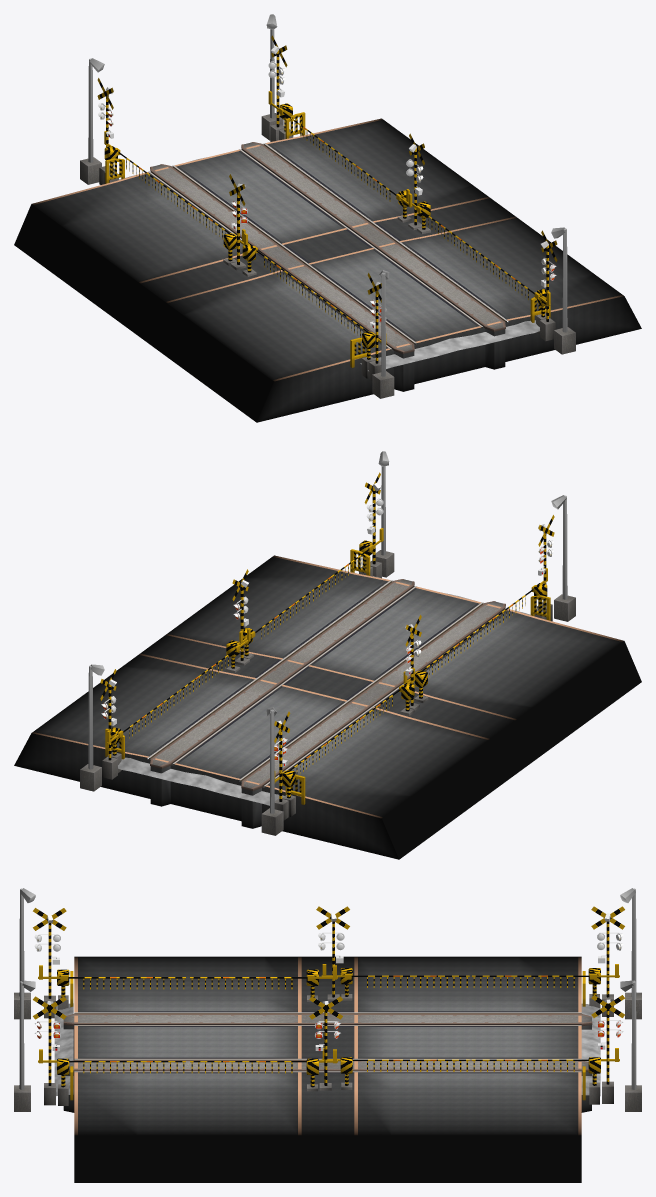
The model's file is NK_2RAIL_HUMIKIRI60.glb.
The picture shows the model from 3 angles, top to bottom: view 1: azimuth 30°, elevation 25°; view 2: azimuth 150°, elevation 25°; view 3: azimuth 270°, elevation 25°; orthographic projection. The views are drawn at different scales.
Visible parts, largest first — view 1: obj3, BODY (×6), bone8, bone0; view 2: obj3, BODY (×6), bone8, bone0; view 3: obj3, BODY (×6), bone8, bone0.
Part boxes in pixels (x1,y1,x2,y2): obj3: [14, 118, 641, 422]; BODY (×6): [97, 35, 557, 380]; bone8: [350, 227, 575, 398]; bone0: [80, 14, 305, 184]; obj3: [14, 555, 641, 859]; BODY (×6): [100, 472, 554, 820]; bone8: [350, 451, 575, 621]; bone0: [80, 664, 305, 835]; obj3: [54, 956, 600, 1182]; BODY (×6): [33, 906, 625, 1105]; bone8: [14, 888, 73, 1111]; bone0: [582, 888, 641, 1111].
Bounding box in the file's own units: 54.97 × 19.62 × 74.25.
96 materials, 93 textured.
